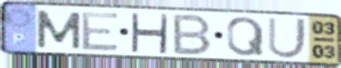B: (171, 13, 215, 56)
E: (79, 11, 122, 52)
H: (128, 11, 170, 55)
M: (33, 8, 83, 51)
Q: (224, 15, 267, 58)
U: (266, 16, 310, 61)
